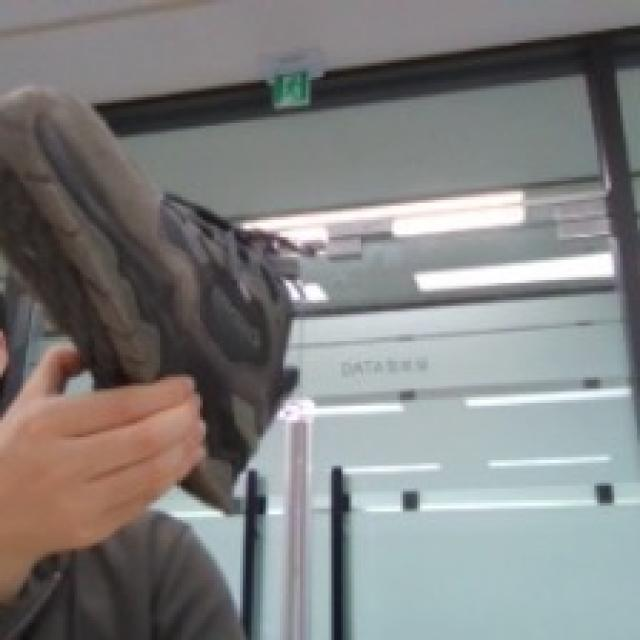shoes: (0, 49, 351, 516)
